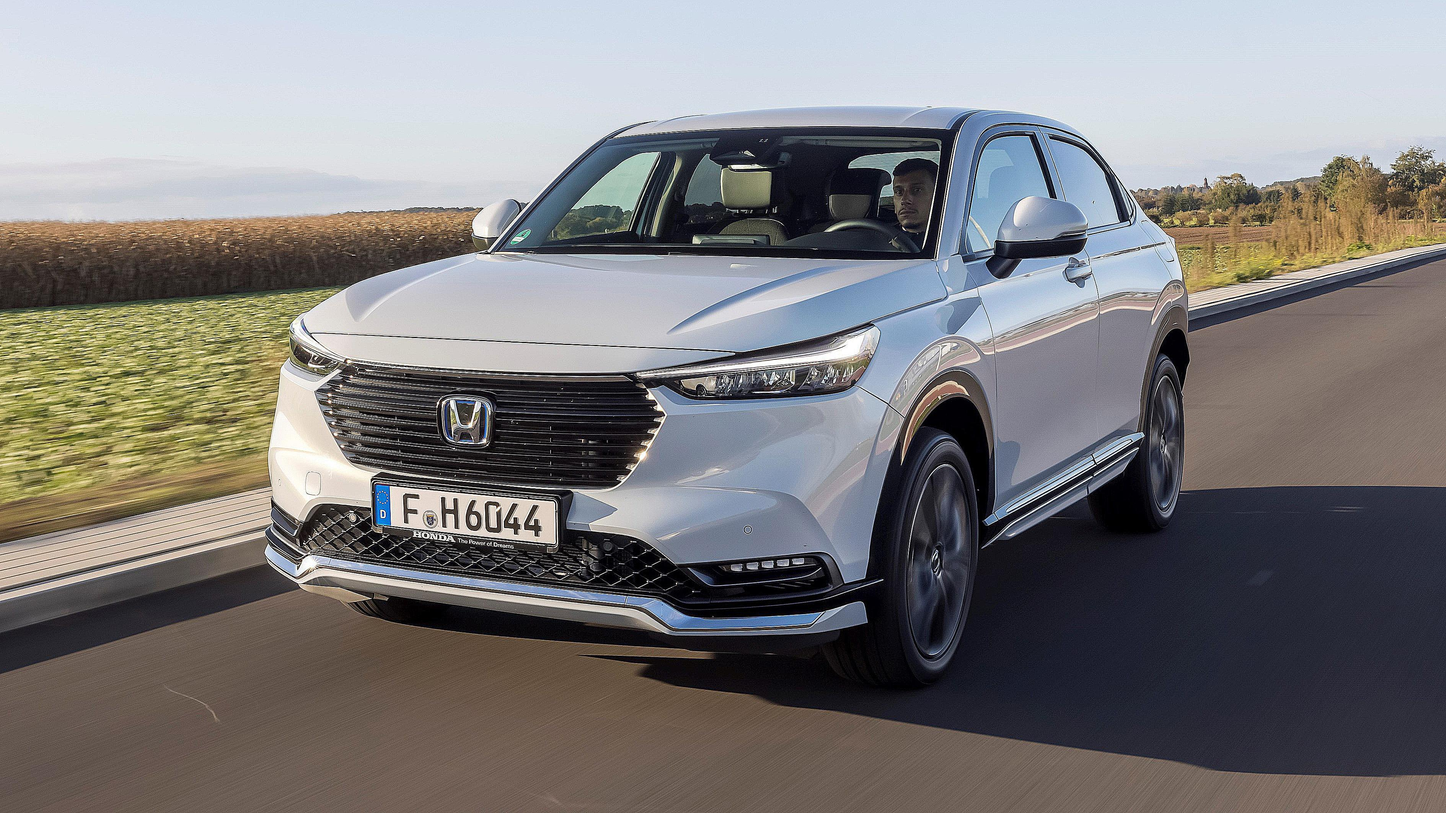Car hood: (301, 249, 952, 348), (281, 326, 342, 385)
Fender - -F-L-: (843, 250, 1004, 487)
Front bumper: (249, 378, 907, 646)
Passenger-s door - -F-L-: (945, 97, 1111, 556)
Passenger-s door - -R-L-: (1038, 114, 1170, 495)
Rear light - -L-: (643, 323, 883, 401)
Side bumper - -L-: (983, 413, 1148, 590)
Side mirror - -L-: (987, 188, 1088, 278)
